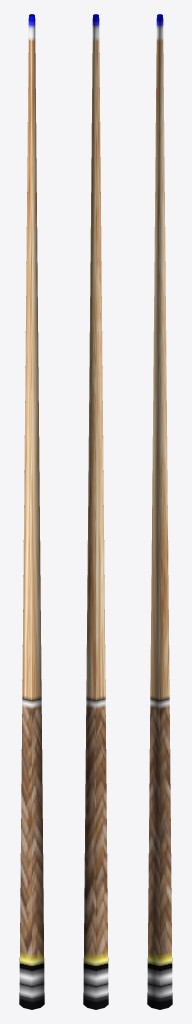
File: Taco.obj
The picture shows the model from 3 angles, left to right: view 1: azimuth 30°, elevation 25°; view 2: azimuth 150°, elevation 25°; view 3: azimuth 330°, elevation 25°; orthographic projection.
Visible parts, largest first — view 1: Cone001; view 2: Cone001; view 3: Cone001.
Part boxes in pixels (bbox=[...]): Cone001: bbox=[19, 14, 44, 1009]; Cone001: bbox=[83, 14, 108, 1009]; Cone001: bbox=[147, 14, 172, 1009].
Size of the model in its own units: 1.57 by 59.37 by 1.36.
1 material, 1 textured.
